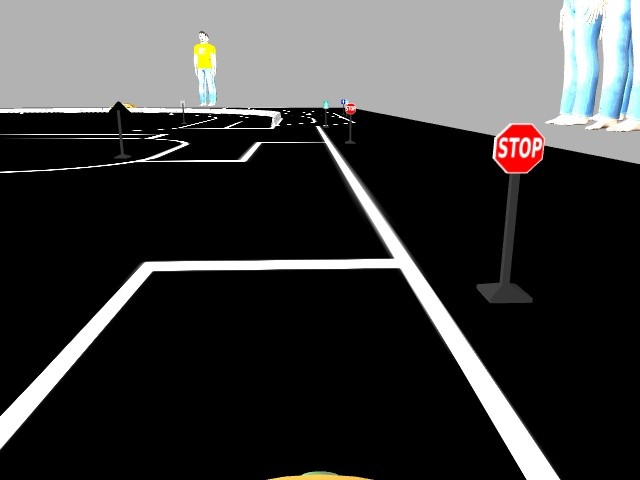Stop: (489, 120, 545, 171), (344, 103, 355, 114)
